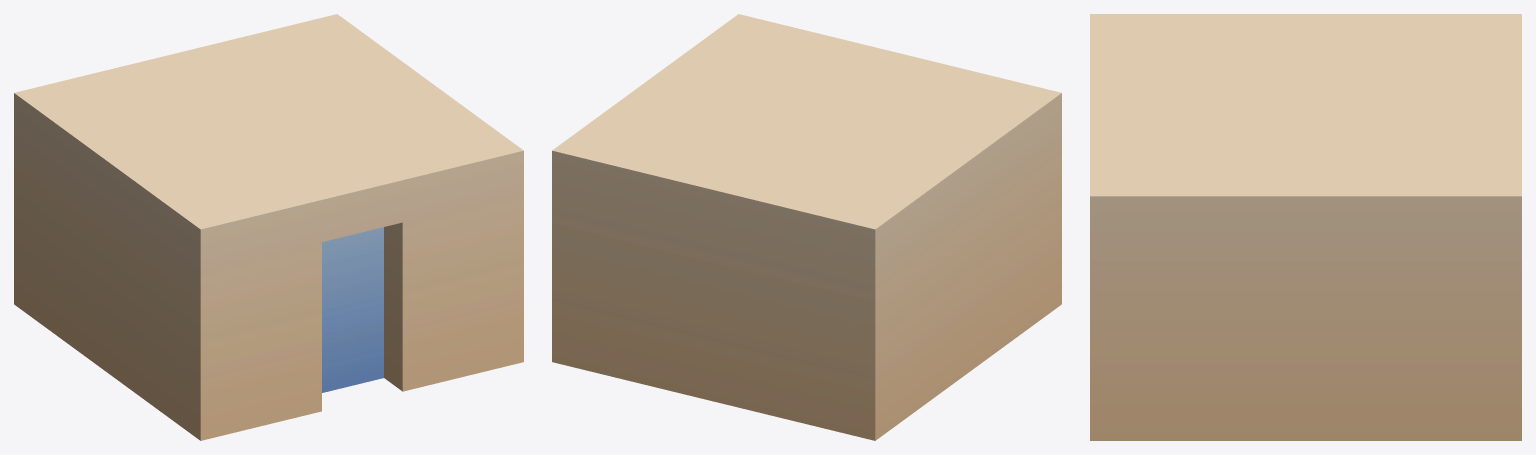
File: kenney-modular-buildings-building-door.glb
3 renders of one model, left to right at view 1: azimuth 30°, elevation 25°; view 2: azimuth 150°, elevation 25°; view 3: azimuth 270°, elevation 25°, orthographic. The views are drawn at different scales.
Visible parts, largest first — view 1: building-door; view 2: building-door; view 3: building-door.
Part boxes in pixels (bbox=[...]): building-door: bbox=[14, 14, 523, 440]; building-door: bbox=[552, 14, 1061, 440]; building-door: bbox=[1090, 14, 1521, 440].
Bounding box in the file's own units: 1 × 0.625 × 1.
Materials: 1 (1 with a texture image).
